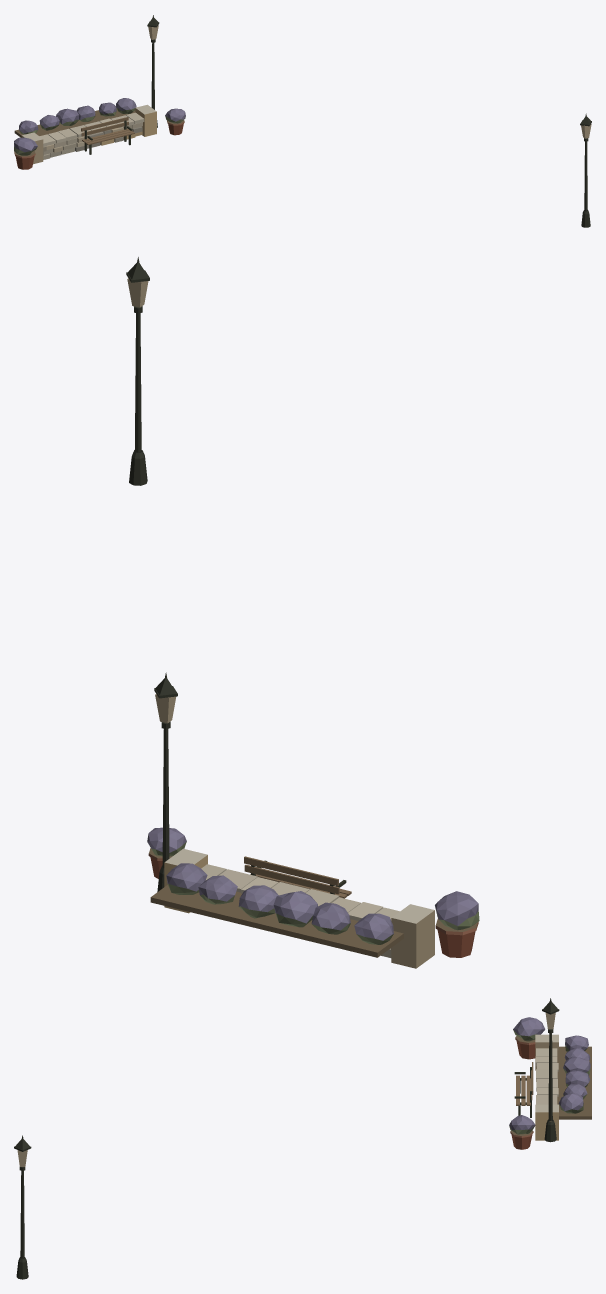
Rendered from props.glb.
3 views of the same model, one above another, from view 1: azimuth 30°, elevation 25°; view 2: azimuth 150°, elevation 25°; view 3: azimuth 270°, elevation 25° (orthographic). The views are drawn at different scales.
Parts seen in each view (by area): view 1: props; view 2: props; view 3: props.
Boxes of the visible parts, x1,y1,x2,y2 form: props: (14,15,591,227); props: (126,257,479,968); props: (14,998,591,1279).
Size of the model in its own units: 15.23 by 4.44 by 16.09.
